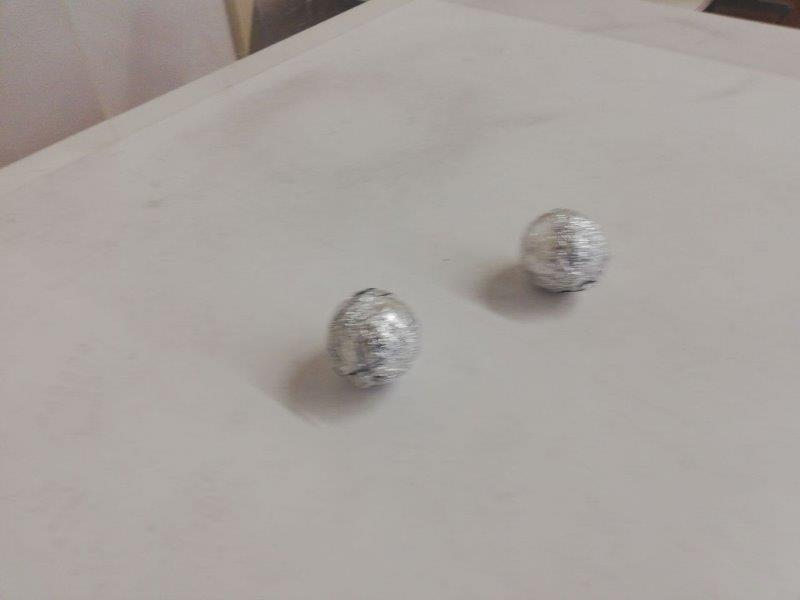bianca: (326, 284, 417, 385), (518, 206, 608, 293)
